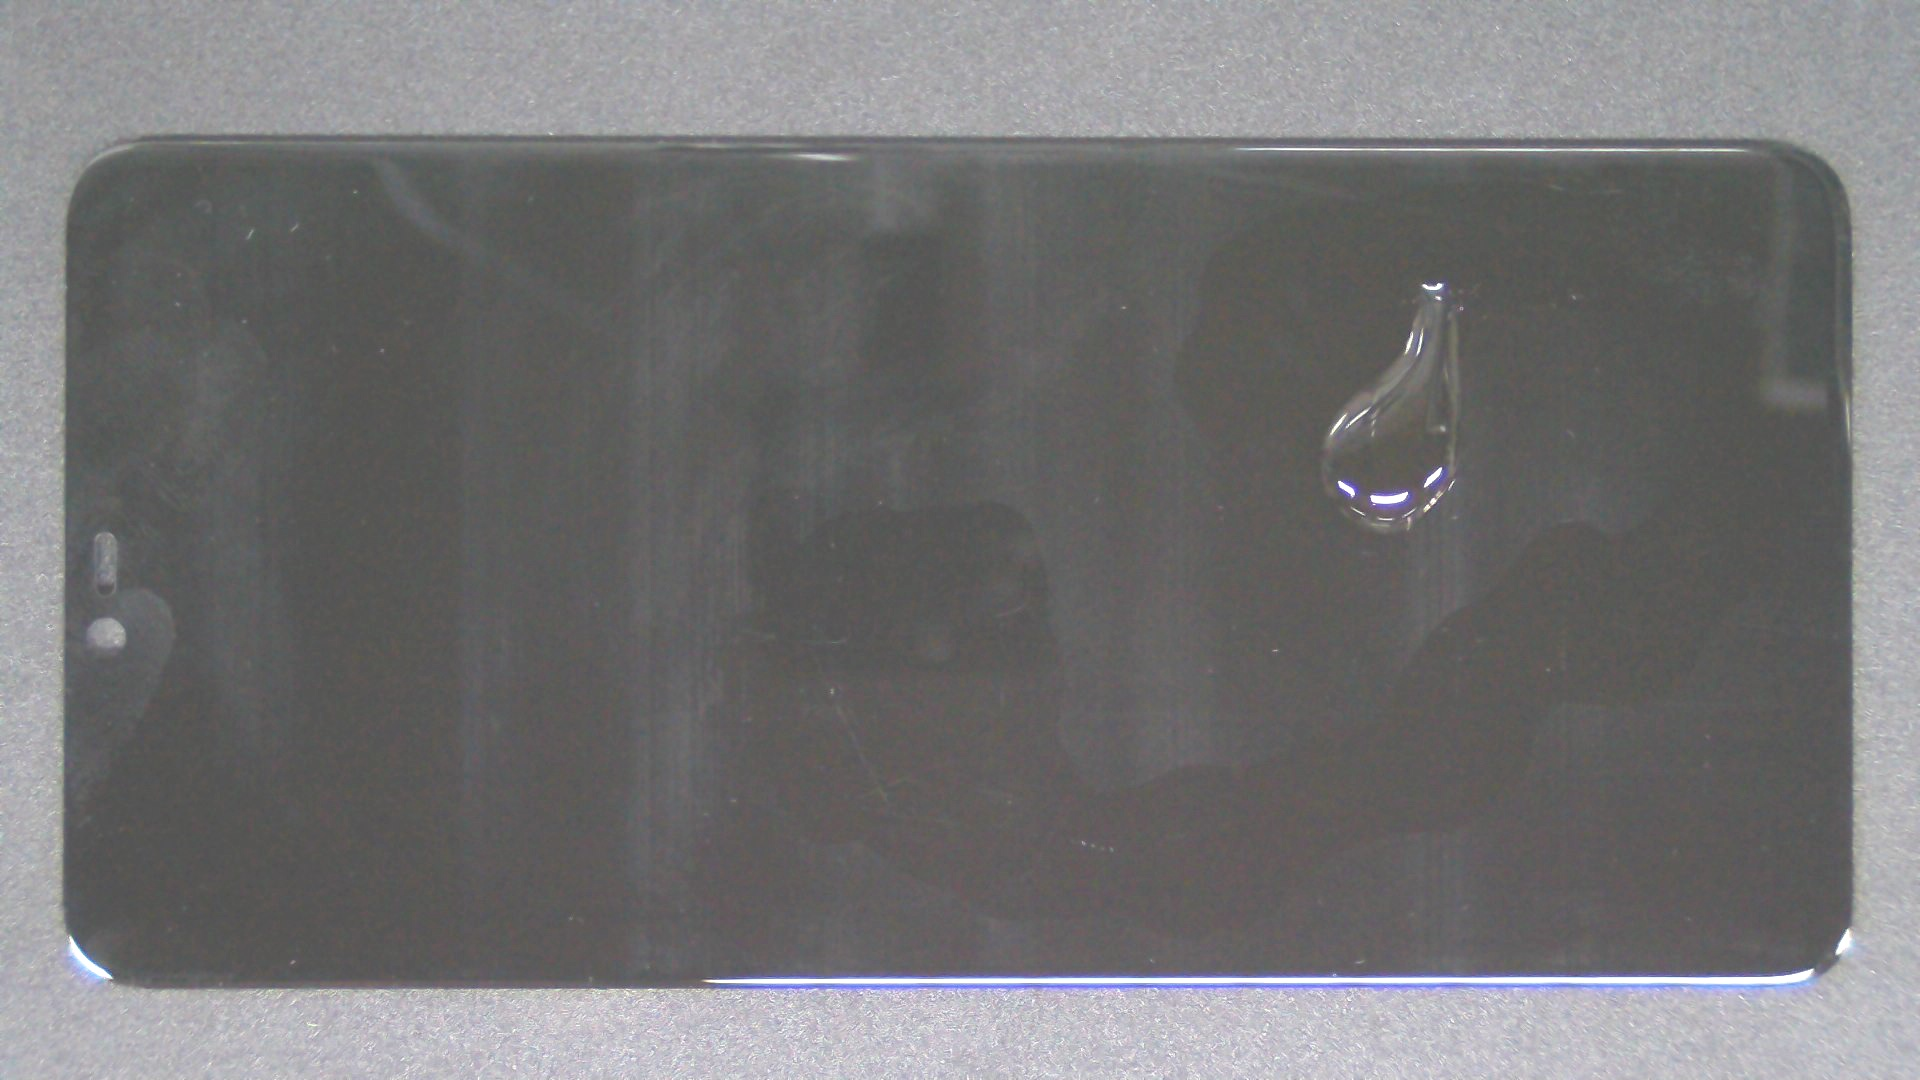oil: (717, 140, 1920, 421)
